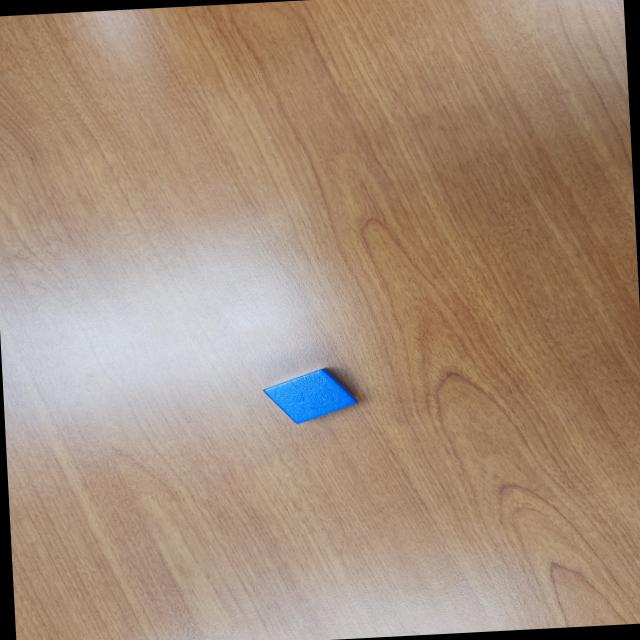blue: (261, 367, 360, 426)
